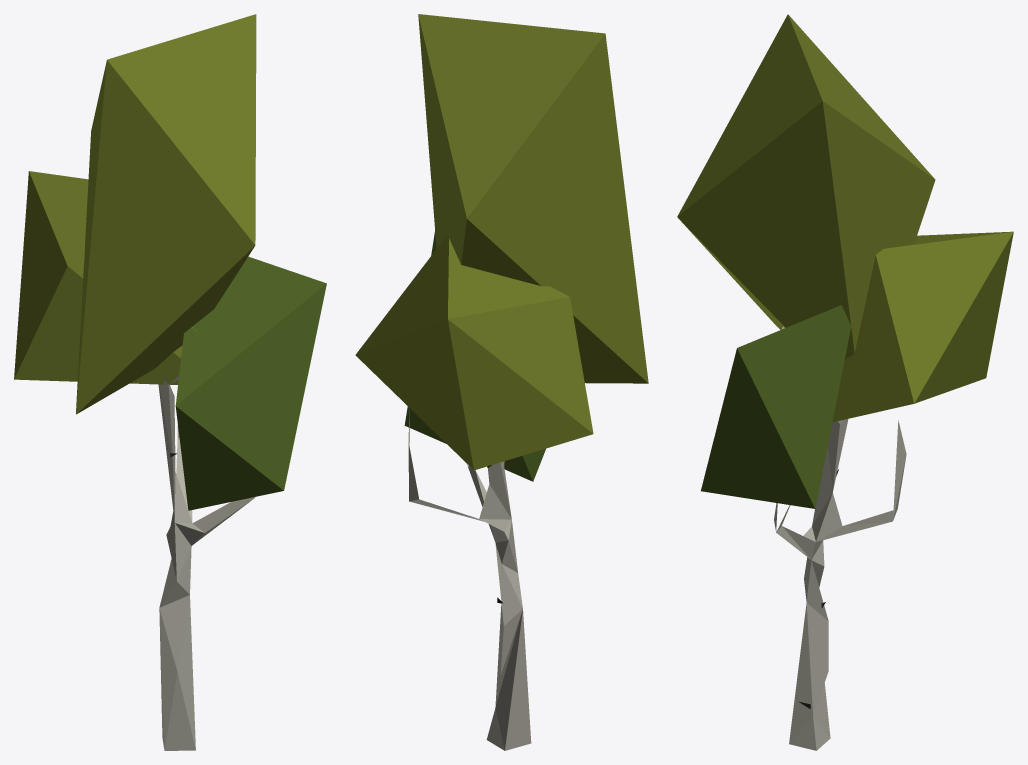
File: birch_b_lod1.glb
3 views of the same model, side by side, from view 1: azimuth 30°, elevation 25°; view 2: azimuth 150°, elevation 25°; view 3: azimuth 270°, elevation 25° (orthographic). The views are drawn at different scales.
Visible parts, largest first — view 1: birch_b_lod1; view 2: birch_b_lod1; view 3: birch_b_lod1.
Part boxes in pixels (x1,y1,x2,y2): birch_b_lod1: (14, 14, 326, 750); birch_b_lod1: (355, 14, 648, 750); birch_b_lod1: (677, 14, 1013, 750).
Size of the model in its own units: 1.38 by 4.01 by 1.78.
